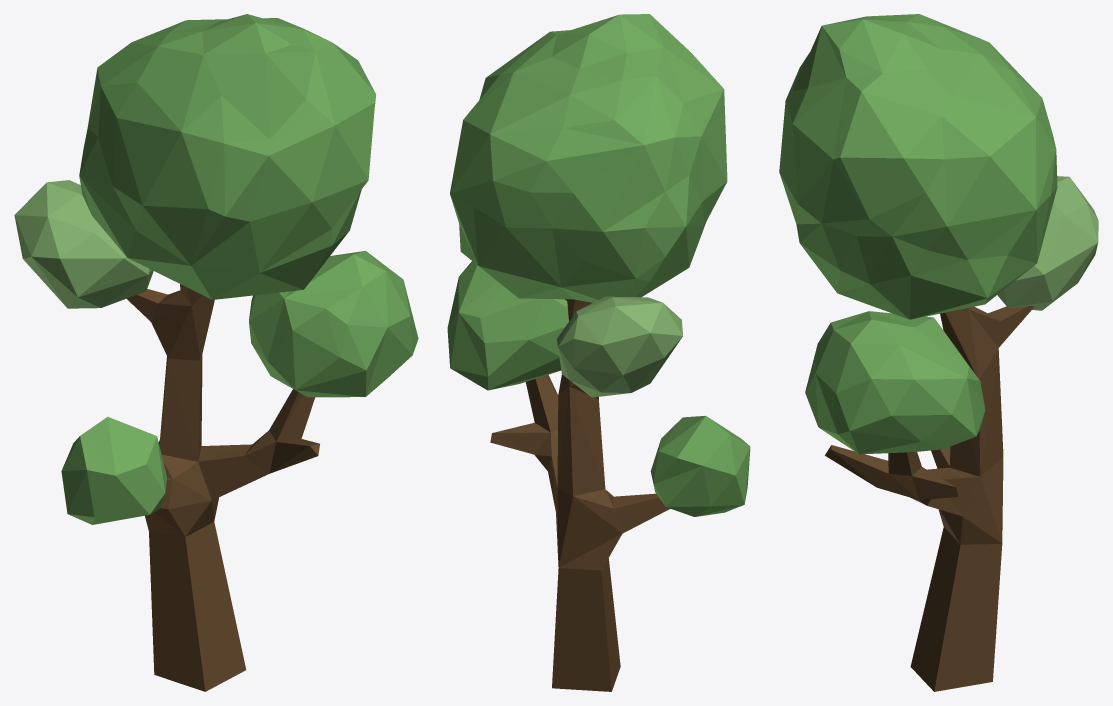
File: Tree_01.glb
The picture shows the model from 3 angles, left to right: view 1: azimuth 30°, elevation 25°; view 2: azimuth 150°, elevation 25°; view 3: azimuth 270°, elevation 25°; orthographic projection. The views are drawn at different scales.
Visible parts, largest first — view 1: Tree_01_LOD0; view 2: Tree_01_LOD0; view 3: Tree_01_LOD0.
Part boxes in pixels (x1,y1,x2,y2): Tree_01_LOD0: (14,14,418,691); Tree_01_LOD0: (447,14,750,691); Tree_01_LOD0: (779,14,1098,691).
Size of what is drawn, in the model's own units: 2.73 by 5.56 by 2.44.
Materials: 1 (1 with a texture image).
